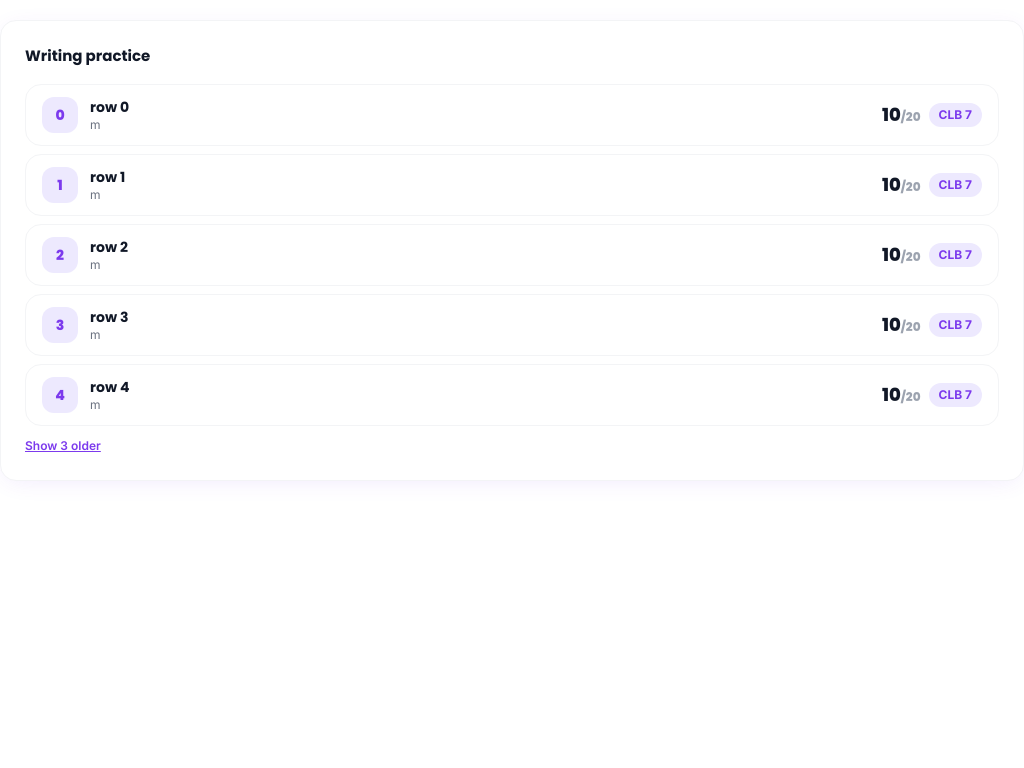
ResultSection › shows the newest five and opens the rest on request
Click the button with test id "sec-more" at (63, 446), box [25, 438, 101, 454]
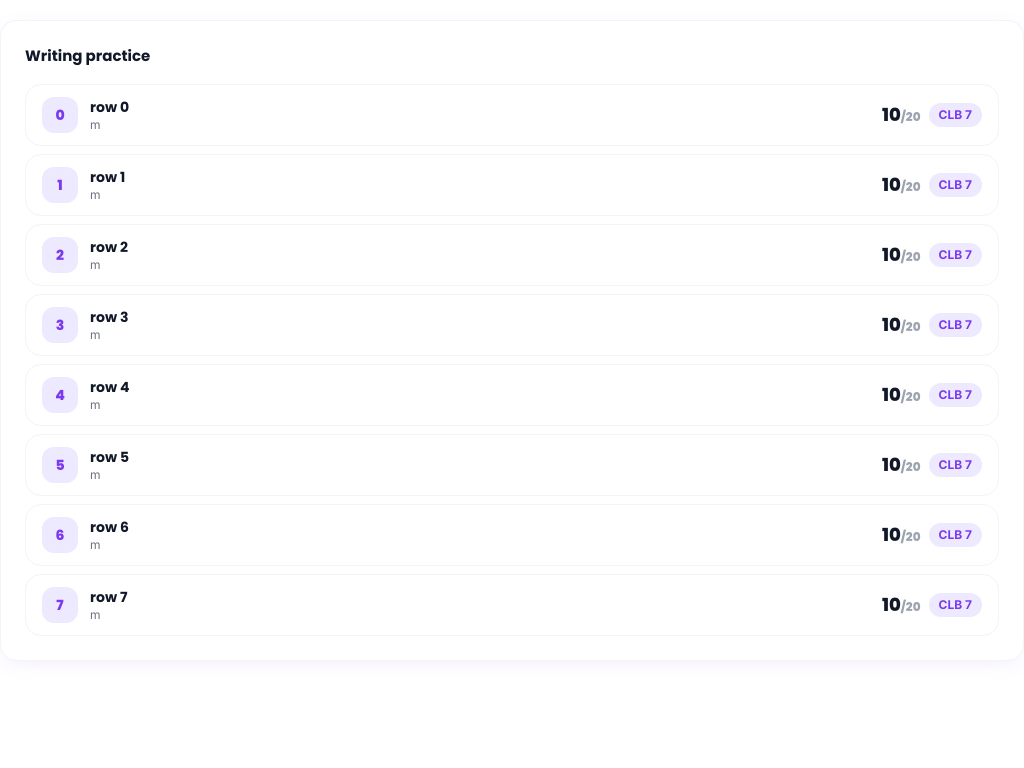
Expected: the button with test id "sec-more" is gone
